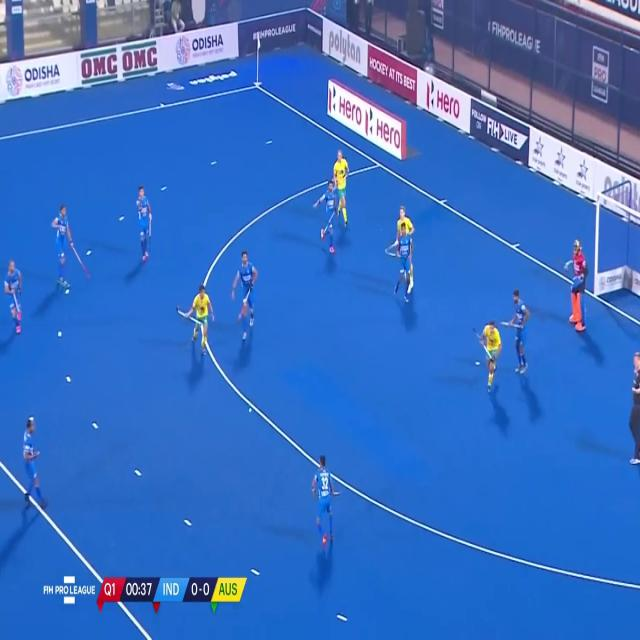ball: (246, 406, 252, 414)
